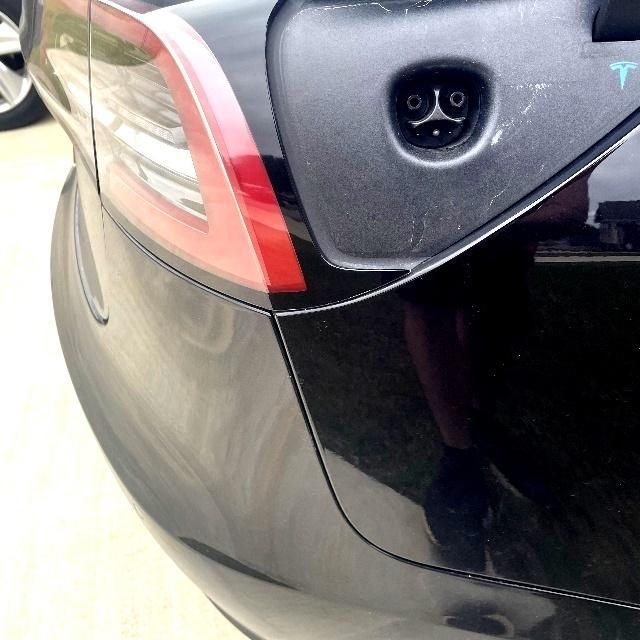Tesla Model-S-: (376, 48, 506, 185)
